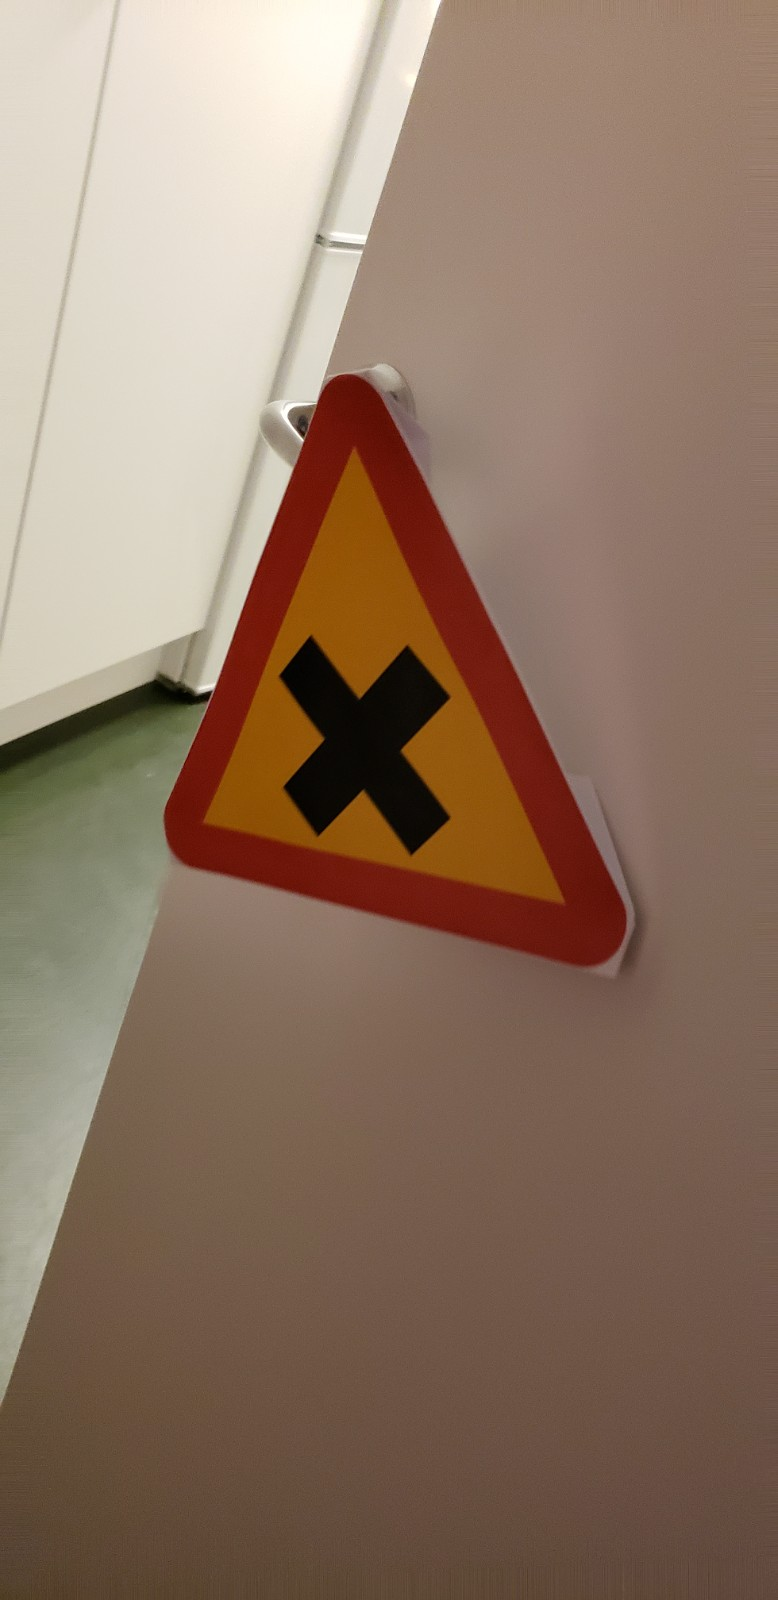junction: (94, 363, 683, 996)
